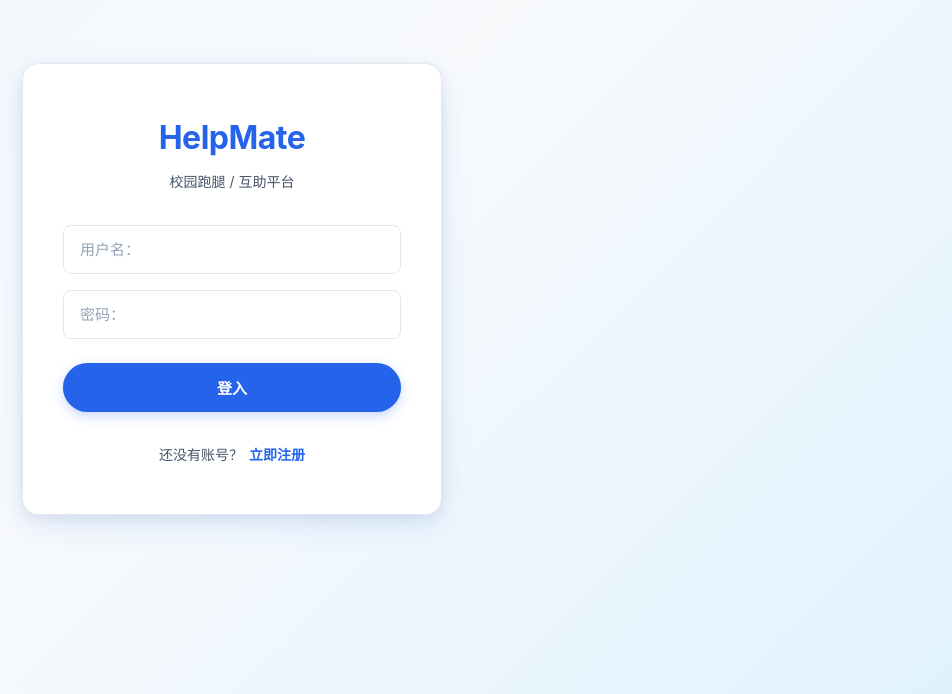
Test: Login Component › 登录失败时应该显示错误信息
Type "testuser" into the field with placeholder "用户名：" at (232, 250), box top-left (63, 225), bottom-right (401, 274)
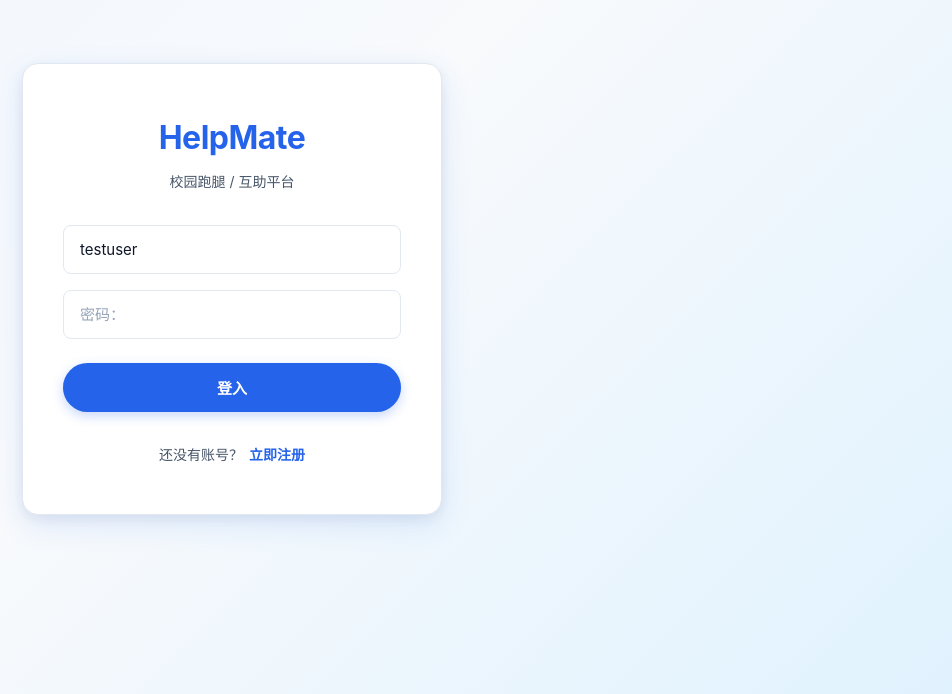
Type "wrong" into the password field with placeholder "密码：" at (232, 315), box top-left (63, 290), bottom-right (401, 339)
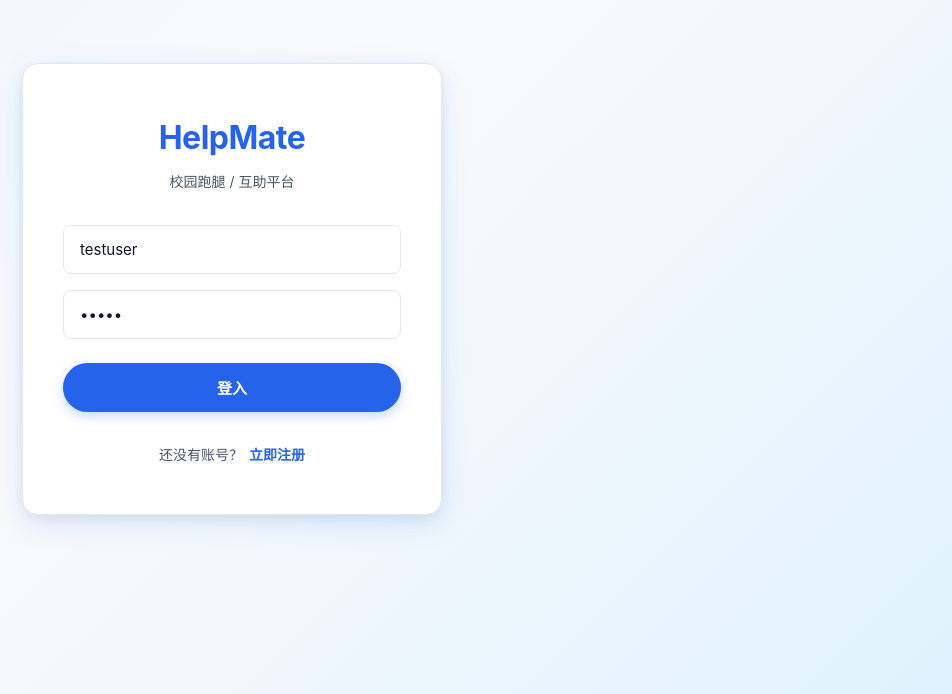
Click the button "登入" at (232, 388), box top-left (63, 363), bottom-right (401, 412)
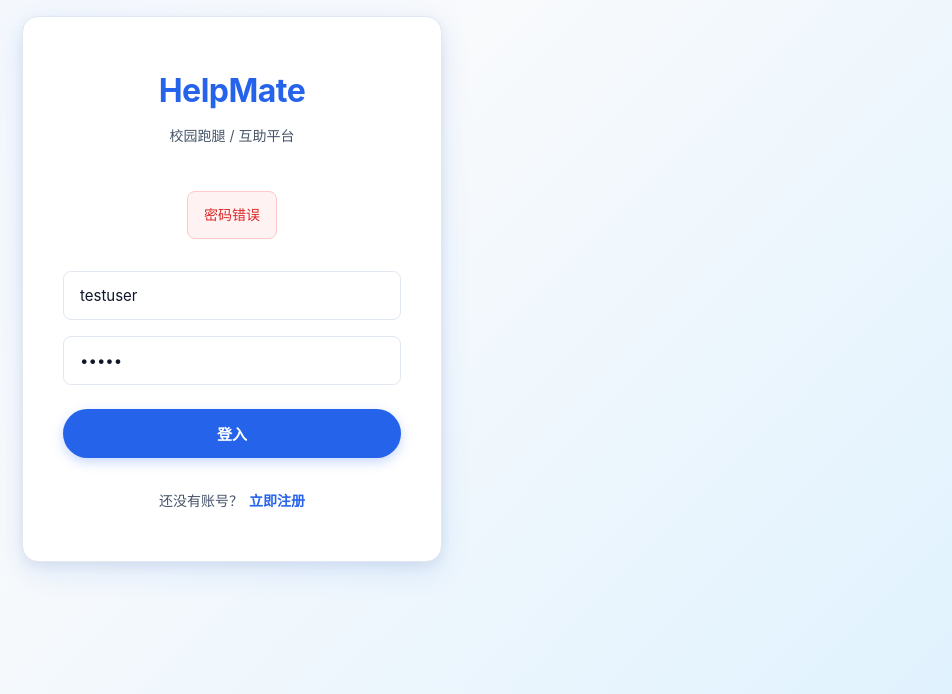
expect the text "密码错误" is shown: met, box top-left (187, 191), bottom-right (277, 239)
